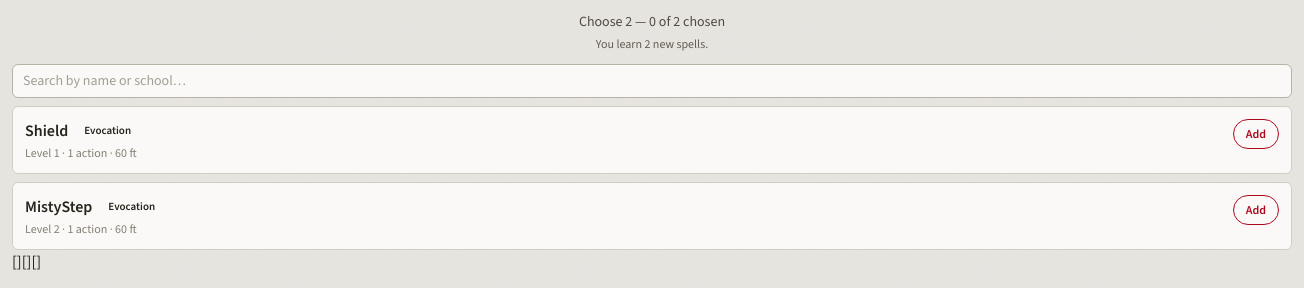
it: NewSpellsStep › selecting a spell writes a learnSpell op and advances the M-of-N counter
The width and height of the screenshot is (1304, 288).
expect the text "Choose 2 — 0 of 2 chosen" is shown: met, box [579,12,725,31]
Click the button with aria-label "Add Shield". click: (1256, 134)
box: [1233,119,1279,149]
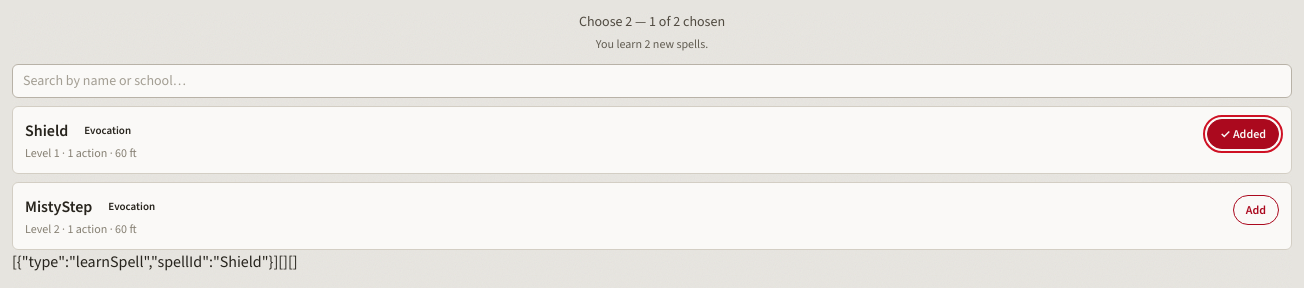
expect the text "Choose 2 — 1 of 2 chosen" is shown: met, box [579,12,725,31]
